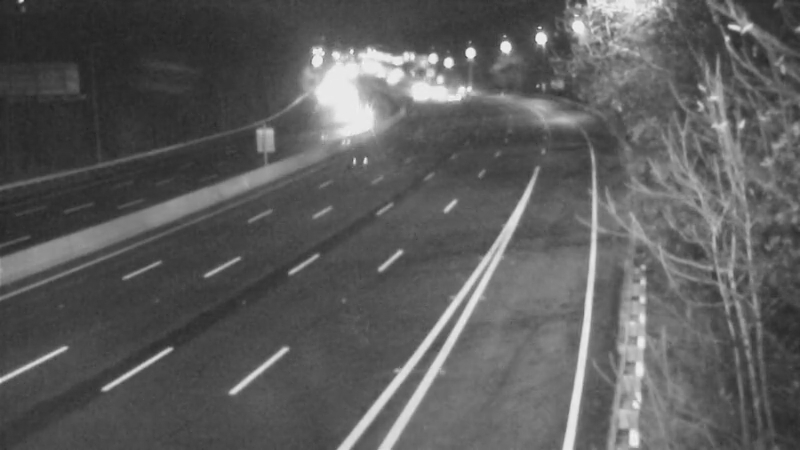vehicle: (441, 66, 491, 116), (334, 95, 384, 145)
